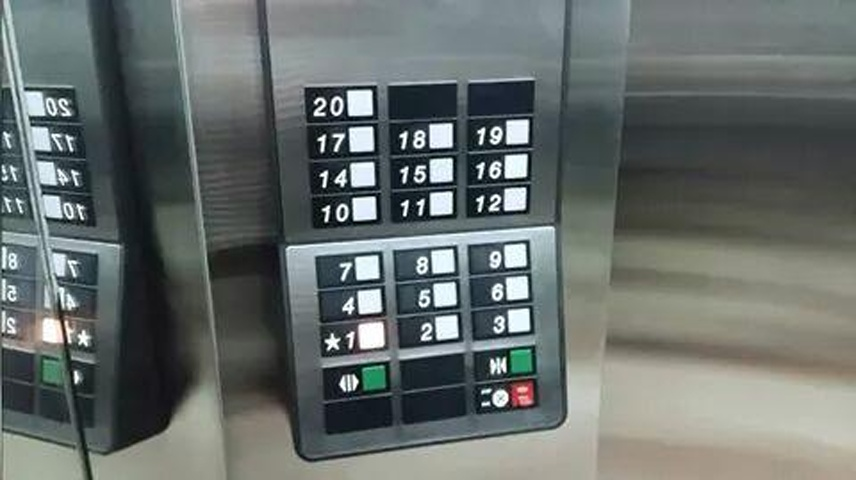10: (308, 191, 382, 230)
11: (387, 184, 458, 224)
12: (464, 180, 532, 219)
14: (306, 156, 381, 195)
15: (387, 151, 459, 190)
16: (463, 147, 533, 187)
17: (303, 120, 380, 161)
18: (386, 117, 459, 155)
19: (464, 112, 535, 153)
2: (395, 310, 465, 349)
20: (301, 82, 380, 124)
3: (468, 303, 536, 342)
4: (316, 281, 388, 323)
5: (393, 276, 462, 316)
6: (467, 268, 533, 308)
7: (313, 248, 386, 289)
8: (391, 243, 461, 282)
9: (466, 238, 532, 276)
close: (469, 343, 538, 381)
empty: (384, 79, 460, 122), (465, 75, 537, 119), (395, 348, 467, 392), (398, 381, 470, 425), (323, 391, 395, 435)
open: (320, 356, 393, 404)
s1: (317, 316, 390, 357)
stop: (471, 376, 543, 418)
